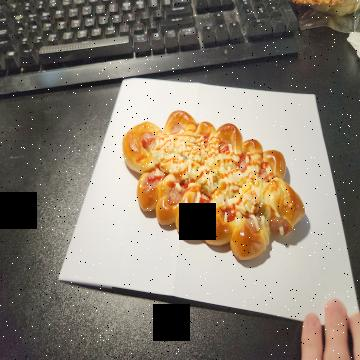pizza_bread: (123, 108, 305, 262)
